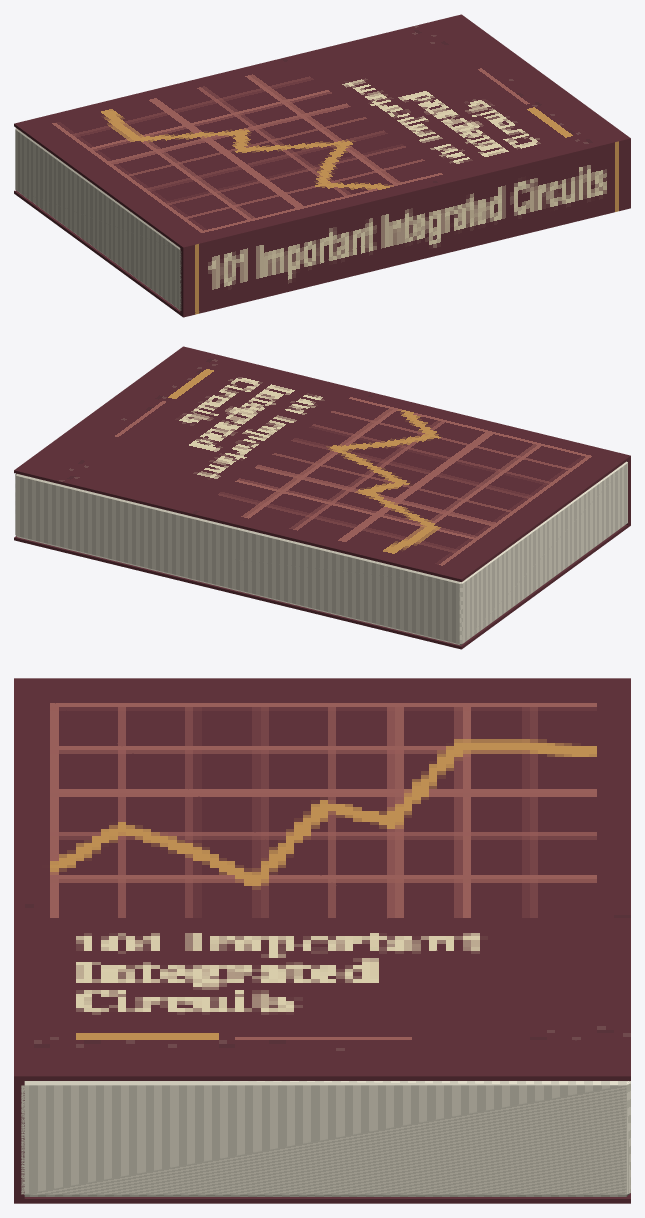
File: ic_reference_electronics.glb
The picture shows the model from 3 angles, top to bottom: view 1: azimuth 30°, elevation 25°; view 2: azimuth 150°, elevation 25°; view 3: azimuth 270°, elevation 25°; orthographic projection. The views are drawn at different scales.
Parts seen in each view (by area): view 1: block_front, block_spine, block_pages, block_back; view 2: block_front, block_pages, block_back, block_spine; view 3: block_front, block_pages, block_spine, block_back.
Boxes of the visible parts, box(x1,y1,x2,y2) form: block_front: box(14, 14, 629, 249); block_spine: box(180, 138, 630, 317); block_pages: box(15, 128, 181, 310); block_back: box(14, 190, 182, 316); block_front: box(14, 347, 627, 581); block_pages: box(15, 461, 627, 645); block_back: box(14, 524, 627, 649); block_spine: box(181, 346, 630, 527); block_front: box(16, 678, 630, 1080); block_pages: box(21, 1081, 630, 1196); block_spine: box(14, 678, 24, 1203); block_back: box(16, 1193, 630, 1203).
Size of the model in its own units: 0.2293 by 0.0343 by 0.1502.
Materials: 1 (1 with a texture image).
